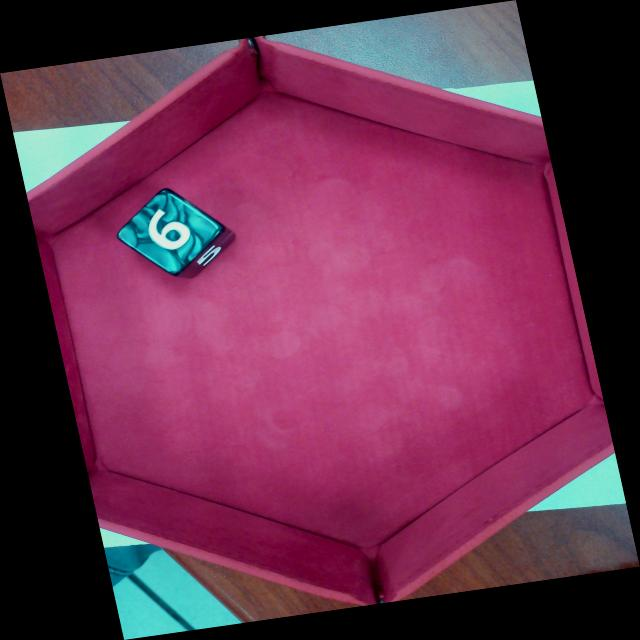dice: (112, 190, 227, 272)
